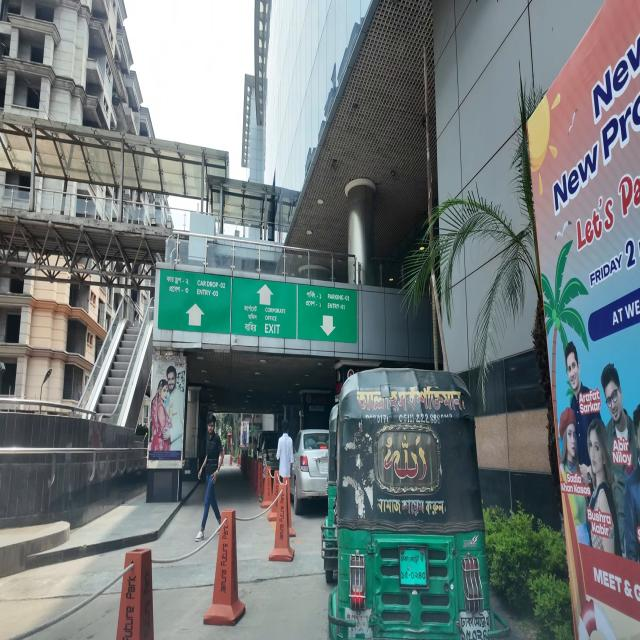person: (195, 414, 224, 544), (276, 419, 294, 485)
